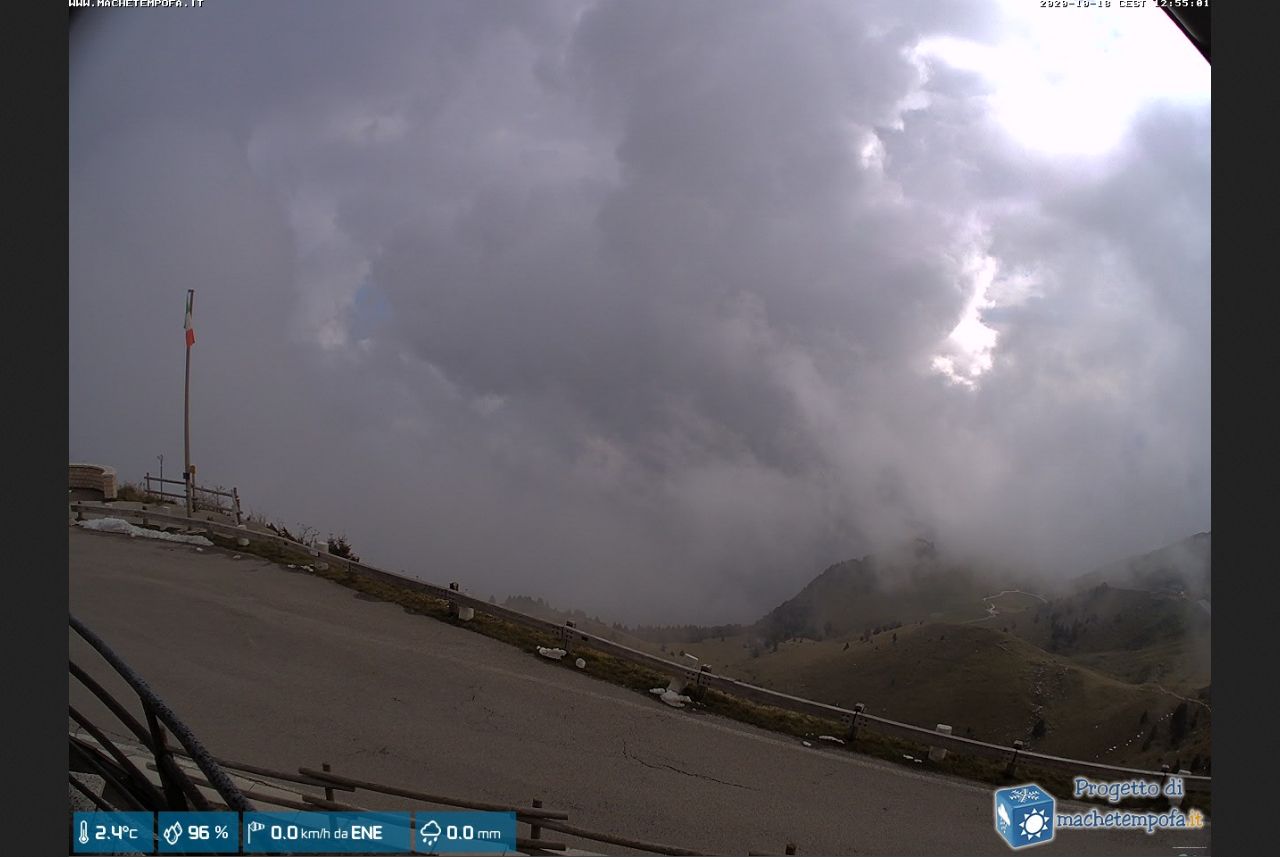no: (180, 294, 199, 347)
